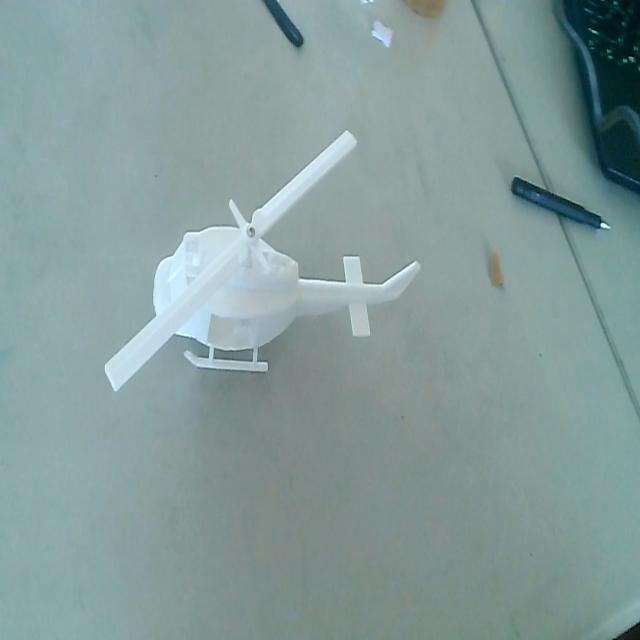Helicopter: (106, 122, 420, 424)
